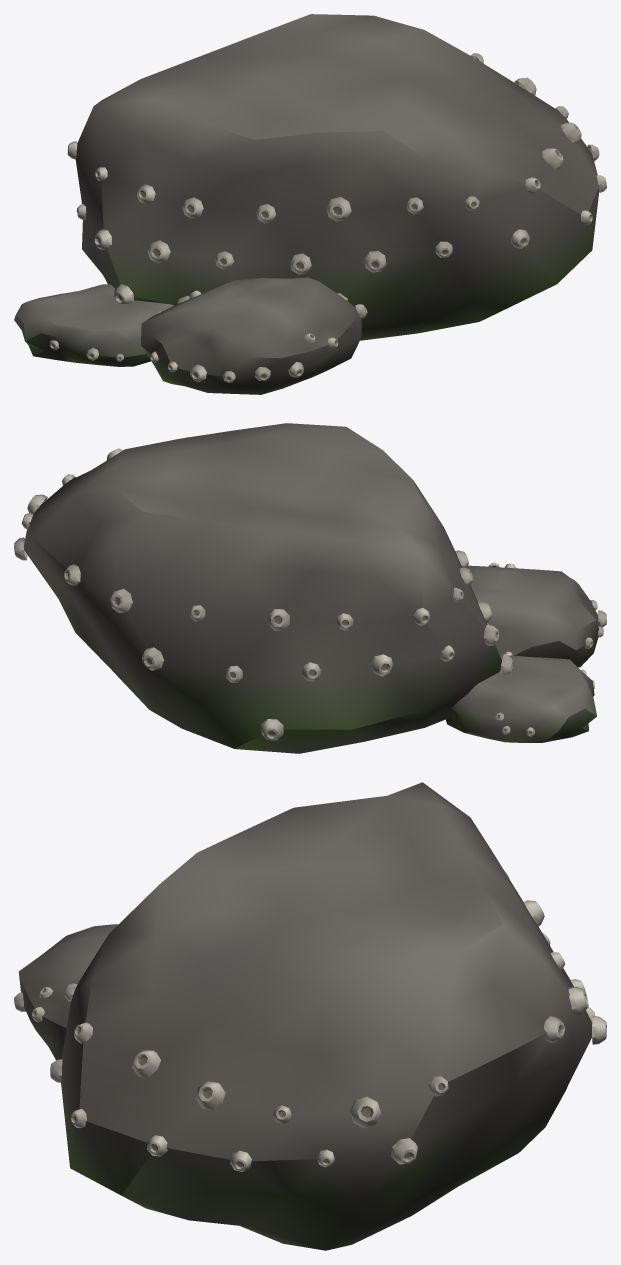
The model's file is Coast_Cape.fbx.
3 views of the same model, one above another, from view 1: azimuth 30°, elevation 25°; view 2: azimuth 150°, elevation 25°; view 3: azimuth 270°, elevation 25° (orthographic). The views are drawn at different scales.
Visible parts, largest first — view 1: Coast_Cape; view 2: Coast_Cape; view 3: Coast_Cape.
Boxes of the visible parts, x1=… form: Coast_Cape: x1=14, y1=14, x2=606, y2=394; Coast_Cape: x1=14, y1=423, x2=606, y2=753; Coast_Cape: x1=14, y1=782, x2=606, y2=1250.
Bounding box in the file's own units: 14.68 × 5.78 × 10.98.
